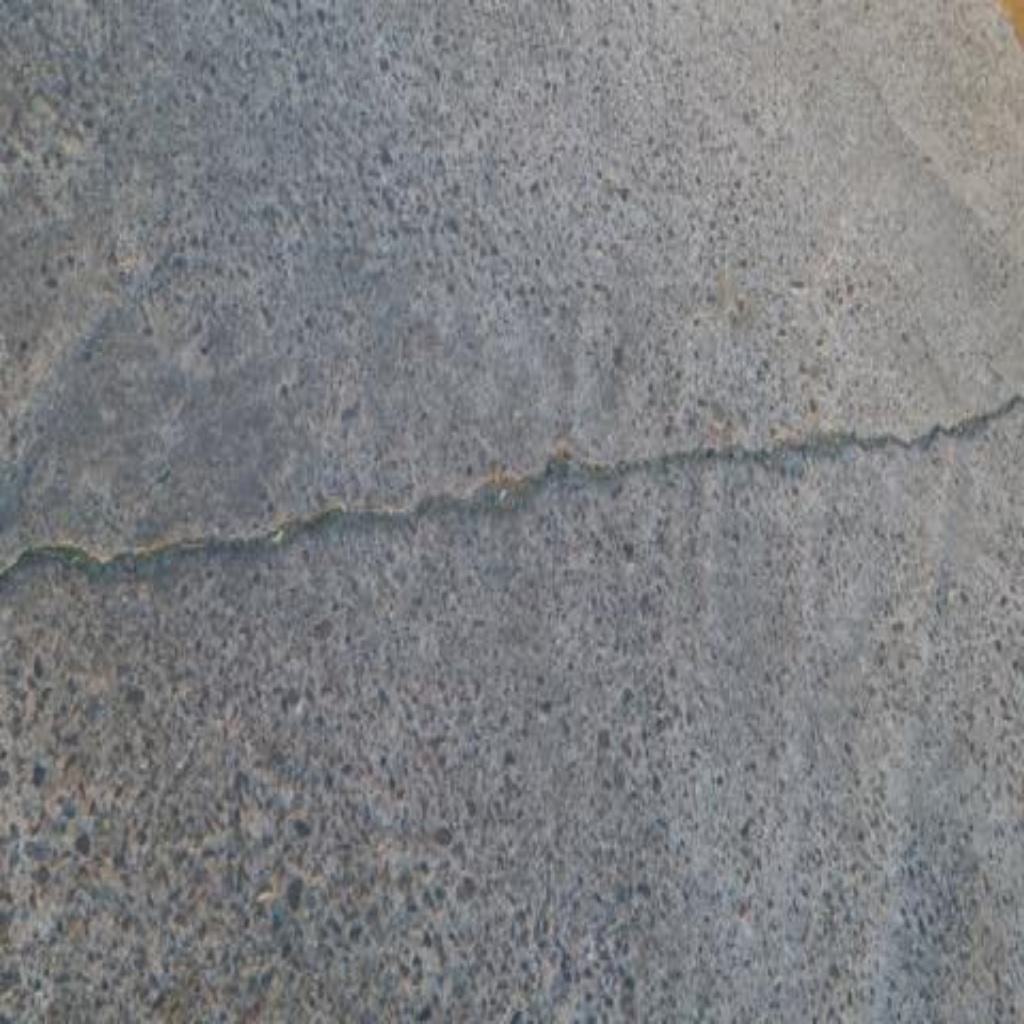Crack: (1, 393, 1024, 582)
